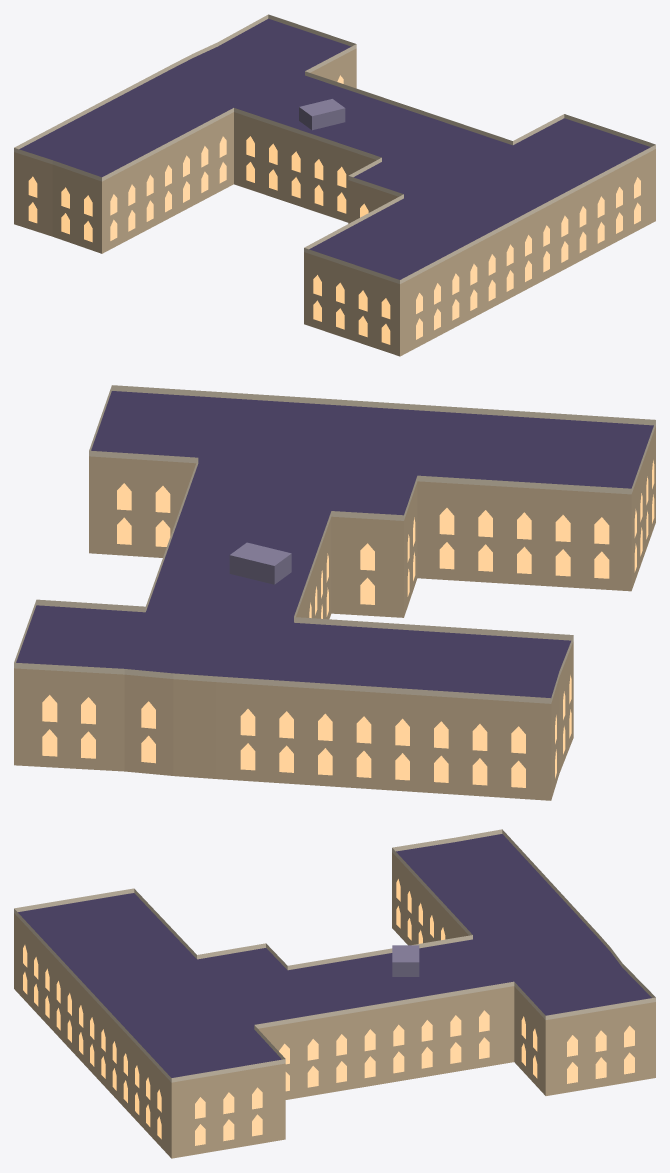
The picture shows the model from 3 angles, top to bottom: view 1: azimuth 30°, elevation 25°; view 2: azimuth 150°, elevation 25°; view 3: azimuth 270°, elevation 25°; orthographic projection. The views are drawn at different scales.
Parts seen in each view (by area): view 1: campus/b-024-0; view 2: campus/b-024-0; view 3: campus/b-024-0.
Boxes of the visible parts, x1,y1,x2,y2 form: campus/b-024-0: (14, 14, 655, 356); campus/b-024-0: (14, 385, 655, 800); campus/b-024-0: (14, 829, 655, 1158).
Bounding box in the file's own units: 65.29 × 11.1 × 71.18.
